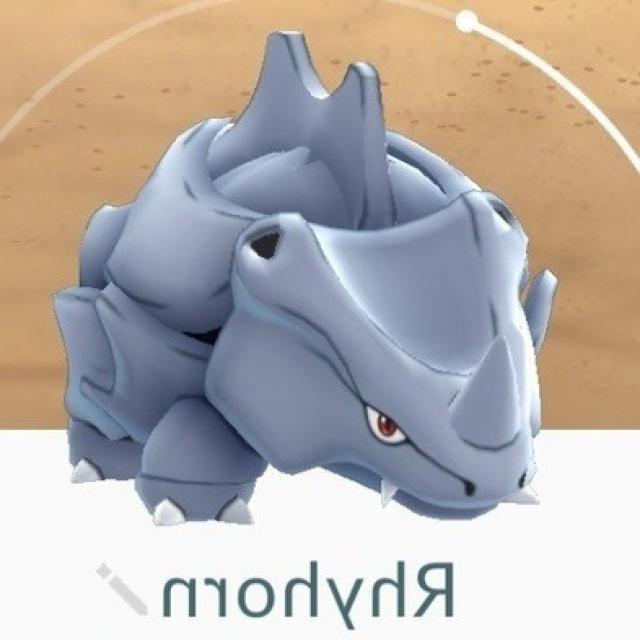Rhyhorn: (58, 33, 548, 536)
